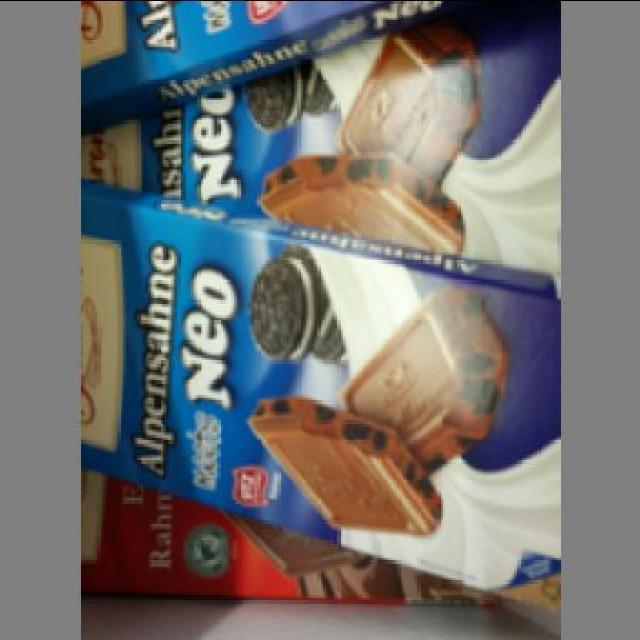Chocolate bar: (74, 184, 554, 586)
